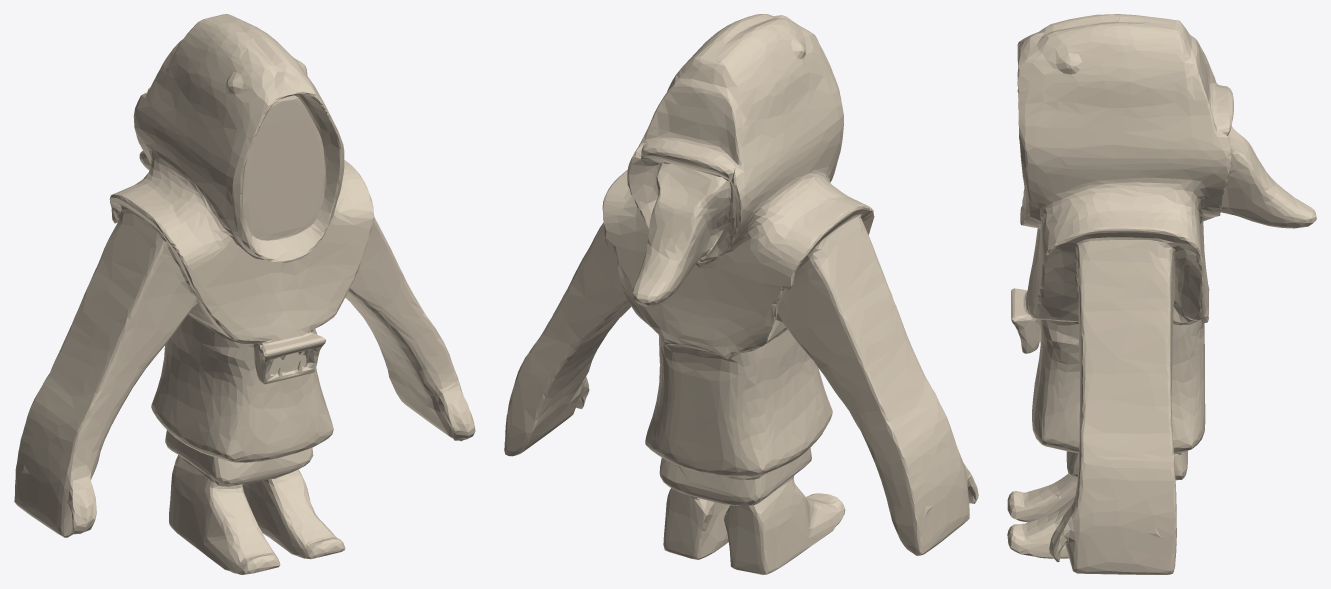
The picture shows the model from 3 angles, left to right: view 1: azimuth 30°, elevation 25°; view 2: azimuth 150°, elevation 25°; view 3: azimuth 270°, elevation 25°; orthographic projection. The views are drawn at different scales.
Parts seen in each view (by area): view 1: world; view 2: world; view 3: world.
Part boxes in pixels (x1=…): world: x1=14, y1=14, x2=475, y2=574; world: x1=504, y1=14, x2=978, y2=574; world: x1=1007, y1=14, x2=1316, y2=574.
Size of the model in its own units: 1.67 by 1.95 by 1.07.
